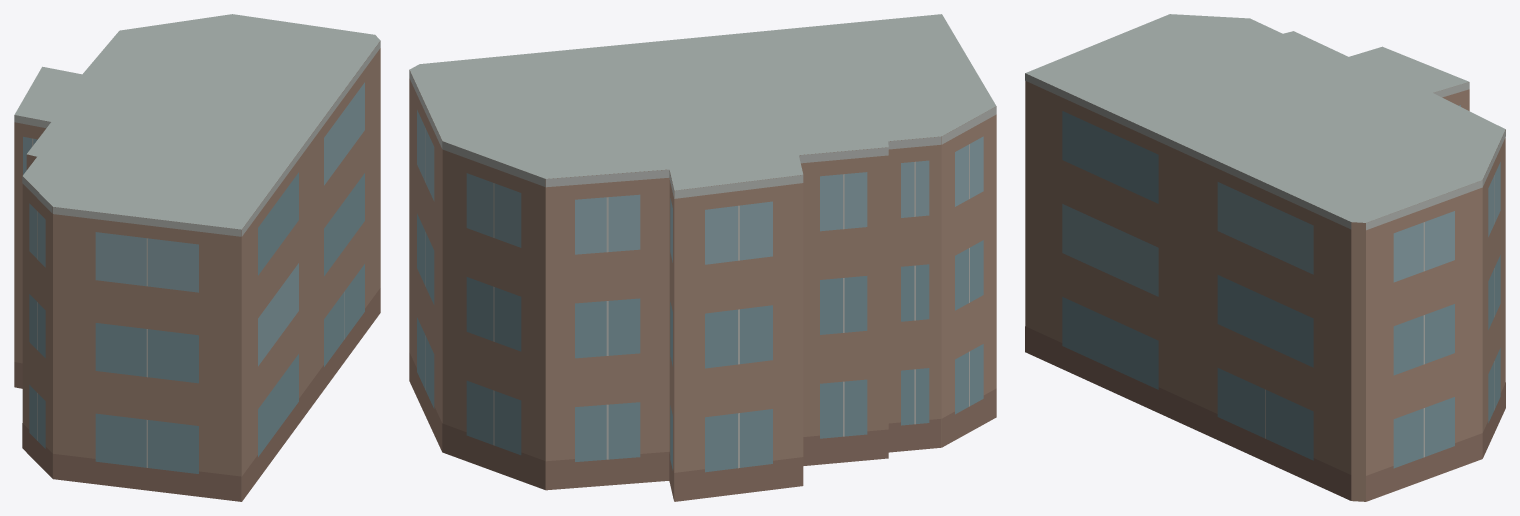
The model's file is survey-upis-32666367.glb.
The picture shows the model from 3 angles, left to right: view 1: azimuth 30°, elevation 25°; view 2: azimuth 150°, elevation 25°; view 3: azimuth 270°, elevation 25°; orthographic projection. The views are drawn at different scales.
Parts seen in each view (by area): view 1: survey-upis-32666367.tmp; view 2: survey-upis-32666367.tmp; view 3: survey-upis-32666367.tmp.
Boxes of the visible parts, x1,y1,x2,y2 form: survey-upis-32666367.tmp: [14, 14, 380, 501]; survey-upis-32666367.tmp: [409, 14, 996, 501]; survey-upis-32666367.tmp: [1025, 14, 1505, 501].
Size of the model in its own units: 14.71 by 9.15 by 14.3.
